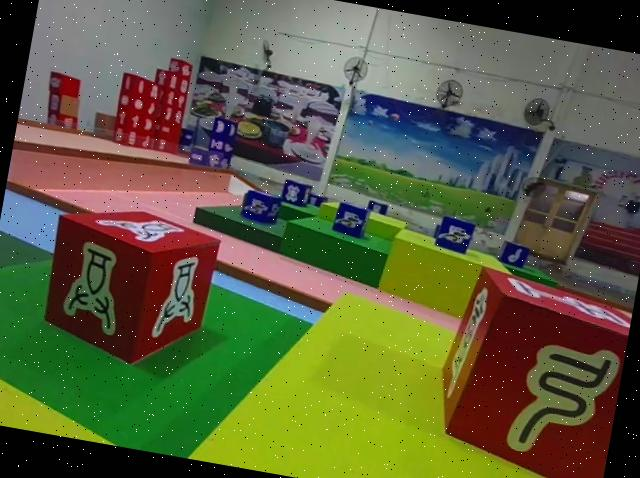R2 Fake: (419, 257, 636, 478)
R2 Real: (32, 193, 225, 377)
